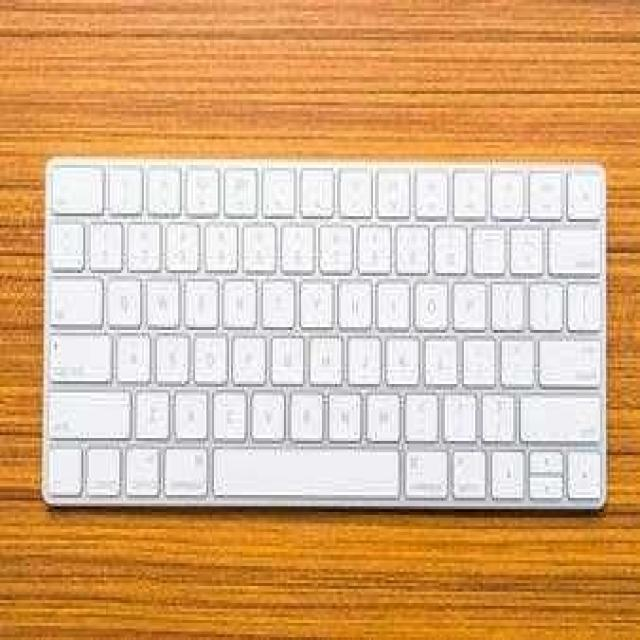keyboard: (38, 153, 610, 517)
